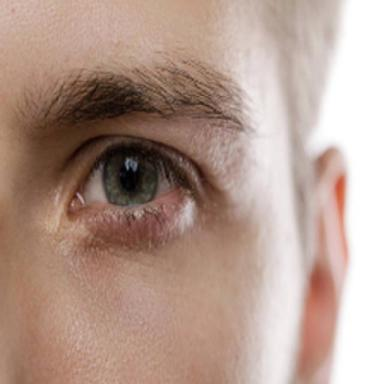normal skin: (0, 0, 350, 384)
